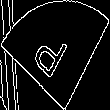P_SW: (34, 24, 76, 86)
